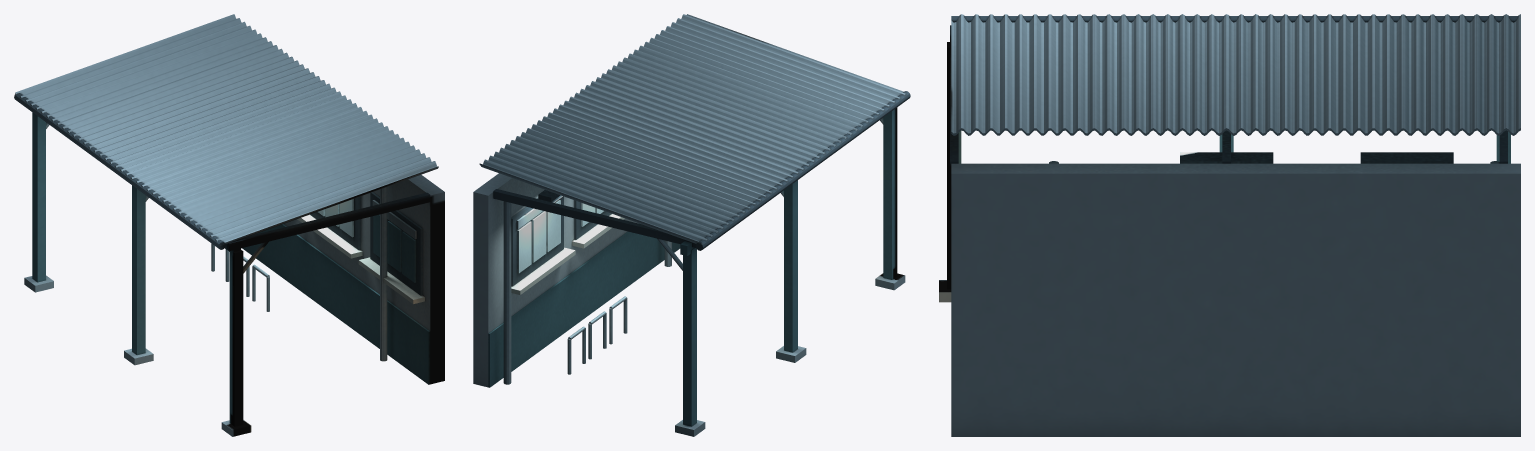
File: campus.glb
3 views of the same model, side by side, from view 1: azimuth 30°, elevation 25°; view 2: azimuth 150°, elevation 25°; view 3: azimuth 270°, elevation 25° (orthographic). The views are drawn at different scales.
Visible parts, largest first — view 1: RoofSkin, CampusStructure; view 2: RoofSkin, CampusStructure; view 3: CampusStructure, RoofSkin.
Boxes of the visible parts, bbox=[...] form: RoofSkin: bbox=[15, 14, 438, 245]; CampusStructure: bbox=[14, 93, 444, 436]; RoofSkin: bbox=[479, 14, 906, 244]; CampusStructure: bbox=[473, 91, 910, 436]; CampusStructure: bbox=[939, 16, 1520, 436]; RoofSkin: bbox=[951, 14, 1520, 135].
Size of the model in its own units: 3.84 by 3.54 by 6.13.
Materials: 1 (1 with a texture image).
